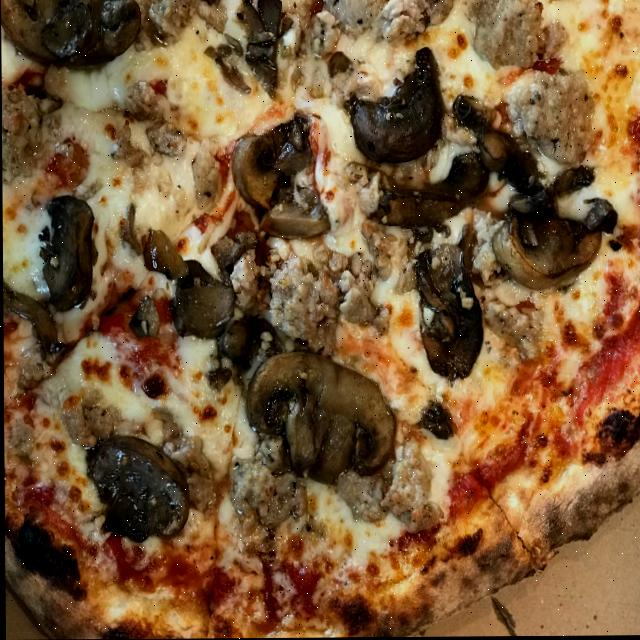mushrooms: (245, 347, 395, 484), (81, 431, 192, 543), (408, 231, 485, 380), (347, 49, 444, 163), (0, 0, 150, 67), (451, 94, 541, 195), (369, 156, 488, 230), (490, 211, 601, 289), (37, 192, 94, 315), (237, 115, 310, 209), (169, 259, 234, 338), (218, 314, 282, 371), (260, 188, 332, 236), (138, 220, 188, 285), (248, 0, 282, 84), (509, 185, 555, 219), (129, 295, 159, 339), (554, 165, 591, 193), (589, 197, 615, 235)
pizza: (0, 0, 640, 640)
